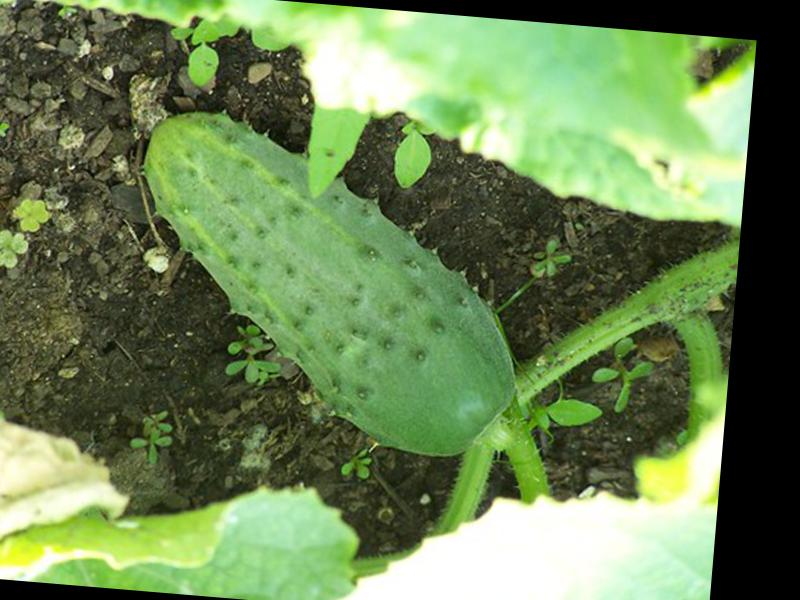Cucumber: (122, 107, 538, 464)
